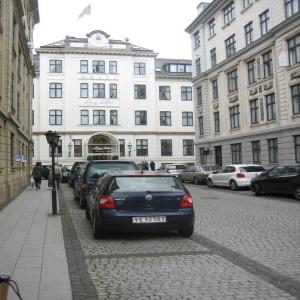Vehicle-registration-plate: (132, 217, 166, 225)
